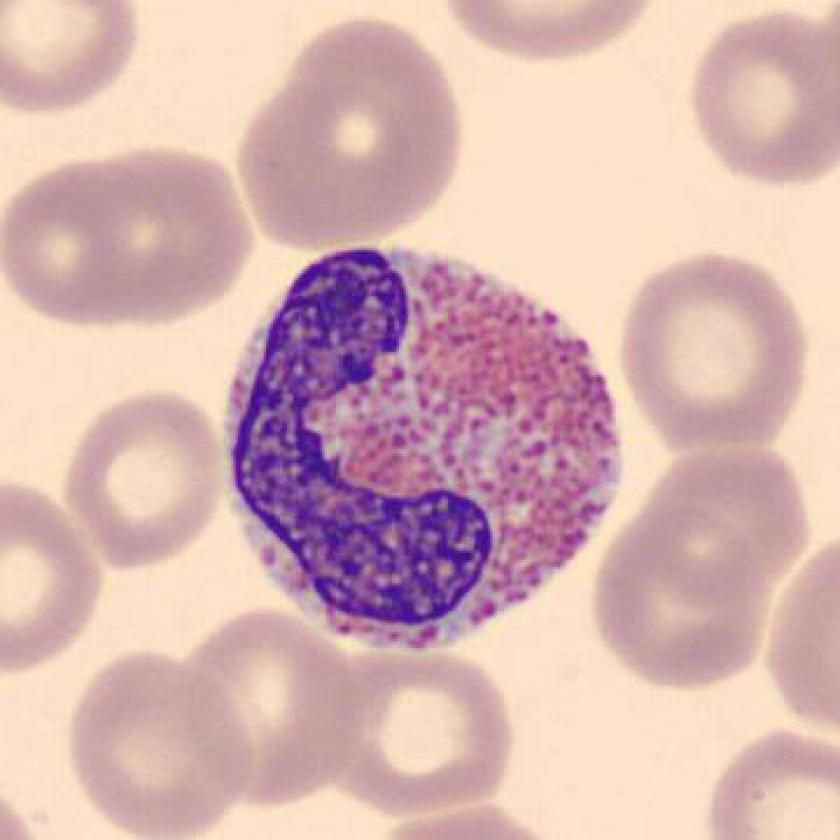eosinophil: (216, 235, 636, 667)
